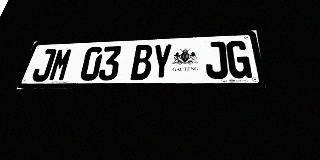0: (79, 47, 104, 81)
3: (98, 46, 122, 81)
B: (130, 44, 153, 80)
G: (226, 40, 252, 79)
J: (30, 49, 57, 82), (205, 41, 228, 79)
M: (47, 48, 74, 81)
Y: (151, 44, 172, 80)
